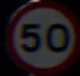Speed limit: (7, 4, 75, 65)
